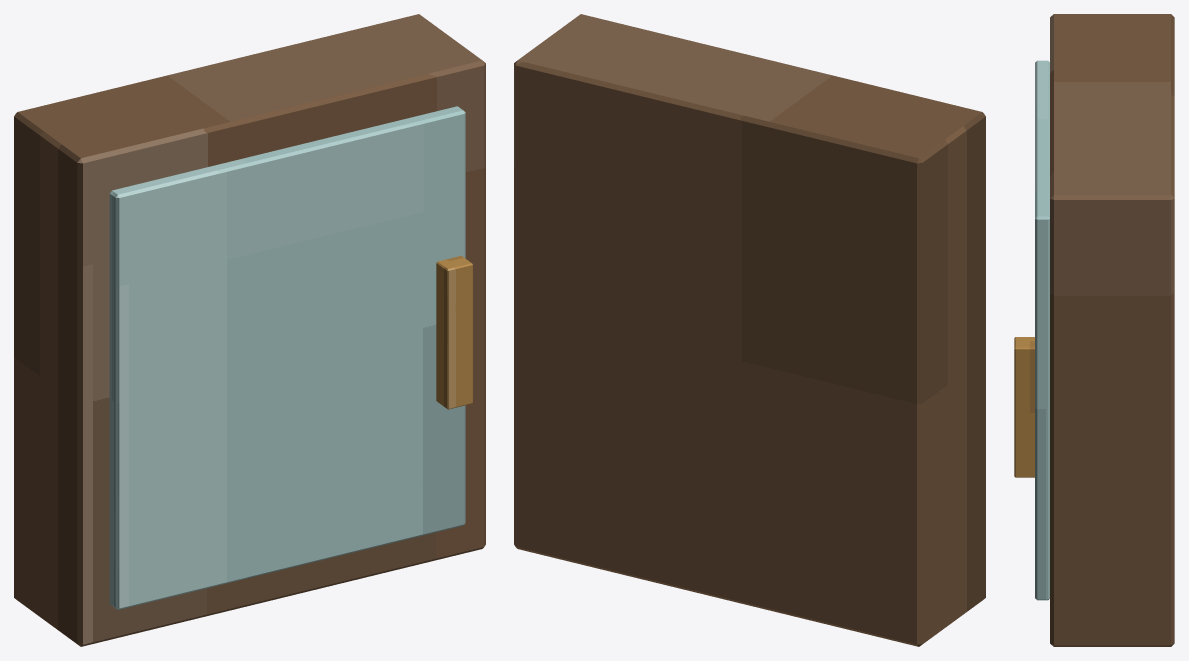
The model's file is house_medicine_cabinet.glb.
3 renders of one model, left to right at view 1: azimuth 30°, elevation 25°; view 2: azimuth 150°, elevation 25°; view 3: azimuth 270°, elevation 25°, orthographic. The views are drawn at different scales.
Parts seen in each view (by area): view 1: MedicineMirror, MedicineCabinetBody, MedicineHandle; view 2: MedicineCabinetBody; view 3: MedicineCabinetBody, MedicineMirror, MedicineHandle.
Boxes of the visible parts, x1=… form: MedicineMirror: x1=109, y1=106, x2=465, y2=609; MedicineCabinetBody: x1=14, y1=14, x2=485, y2=646; MedicineHandle: x1=436, y1=255, x2=472, y2=409; MedicineCabinetBody: x1=514, y1=14, x2=985, y2=646; MedicineCabinetBody: x1=1050, y1=14, x2=1174, y2=646; MedicineMirror: x1=1035, y1=60, x2=1049, y2=600; MedicineHandle: x1=1014, y1=337, x2=1034, y2=477.
Bounding box in the file's own units: 0.7 × 0.8 × 0.2575.
Materials: 1 (1 with a texture image).
